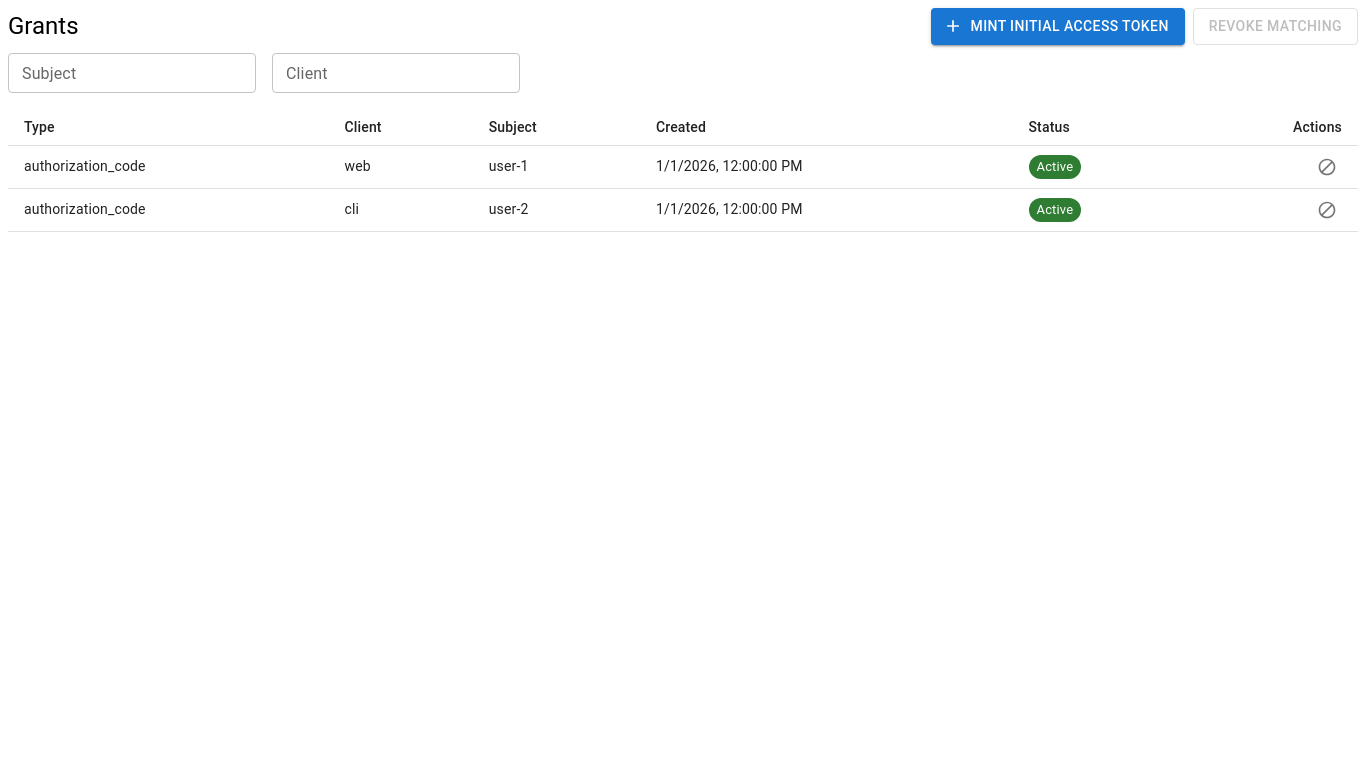
GrantsPage (tenant-scoped revocation wiring) › bulk-revokes by subject and client together, naming both filters
expect the row with test id "grant-row-g-2" is shown: met, box x1=8 y1=188 x2=1358 y2=231
Type "user-1" into the field labelled "Subject" at [132, 72], box x1=8 y1=52 x2=256 y2=92
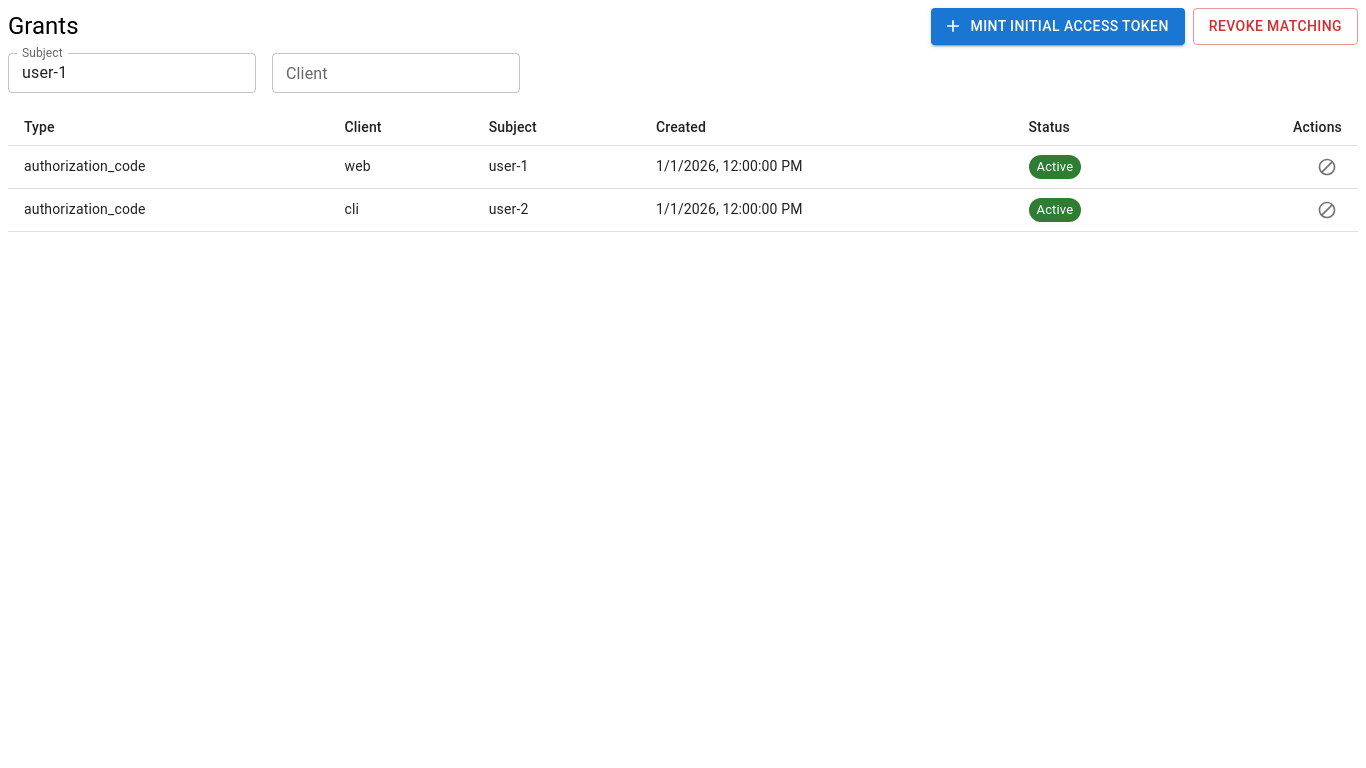
Type "web" into the field labelled "Client" at [396, 72], box x1=272 y1=52 x2=520 y2=92
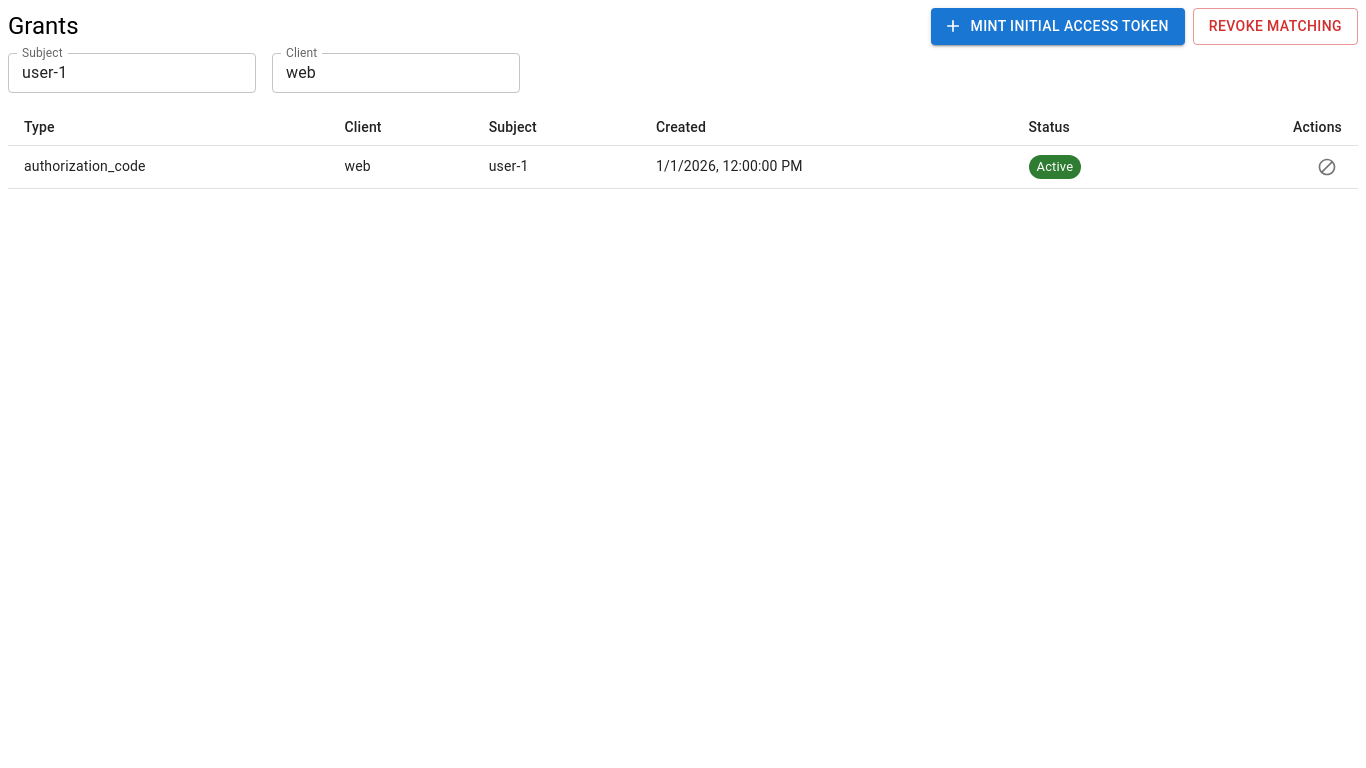
expect the row with test id "grant-row-g-2" is gone: met
Click the button with test id "revoke-matching-grants" at [1275, 26], box x1=1193 y1=8 x2=1358 y2=44
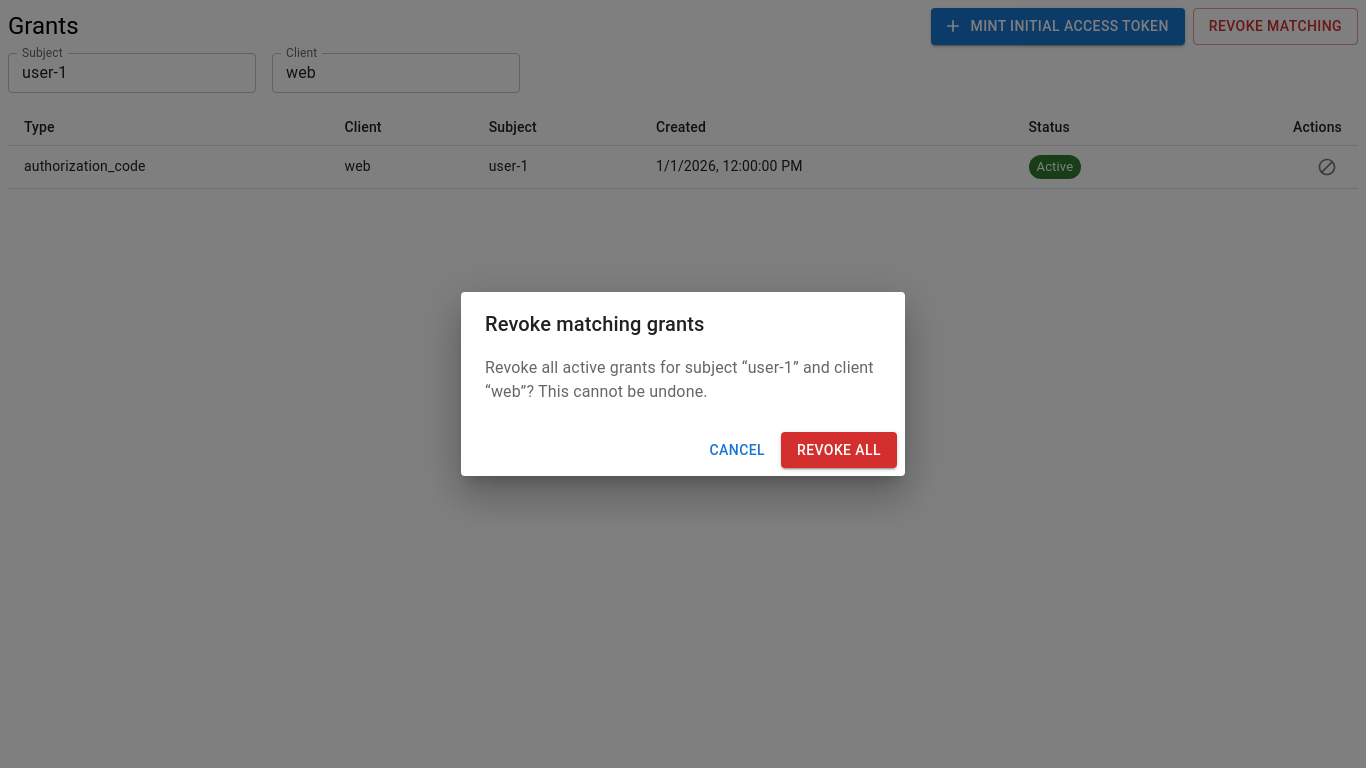
expect the dialog "Revoke matching grants" shows "Revoke all active grants for subject “user-1” and client “web”? This cannot be undone.": met, box x1=485 y1=358 x2=874 y2=401
Click the button with test id "confirm-accept" at [839, 450], box x1=781 y1=432 x2=897 y2=468
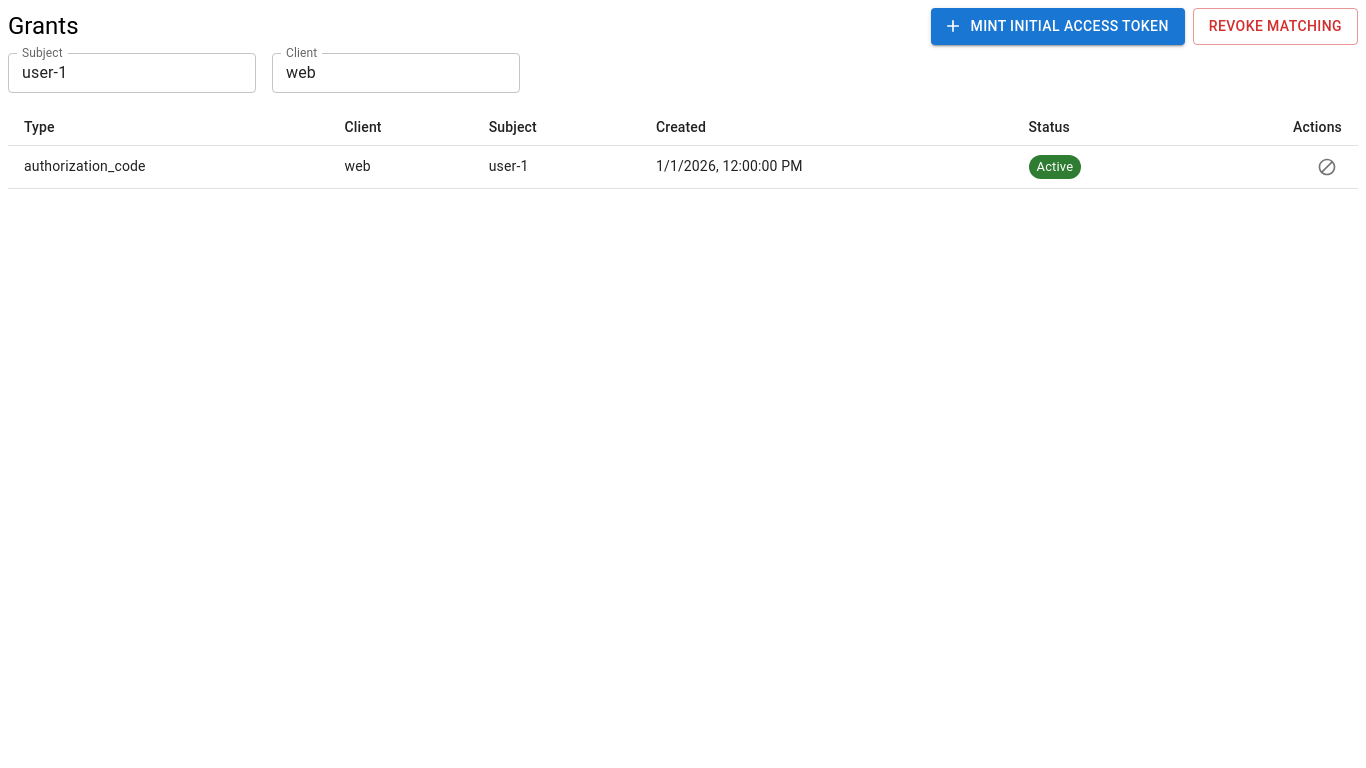
expect the cell "user-1" is shown: met, box x1=473 y1=145 x2=640 y2=188
expect the button with test id "confirm-accept" is gone: met
